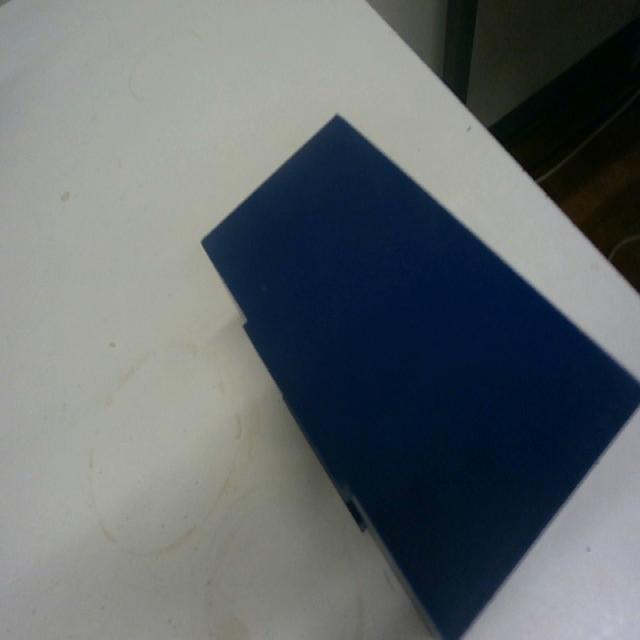Blue Cuboid: (198, 109, 639, 639)
